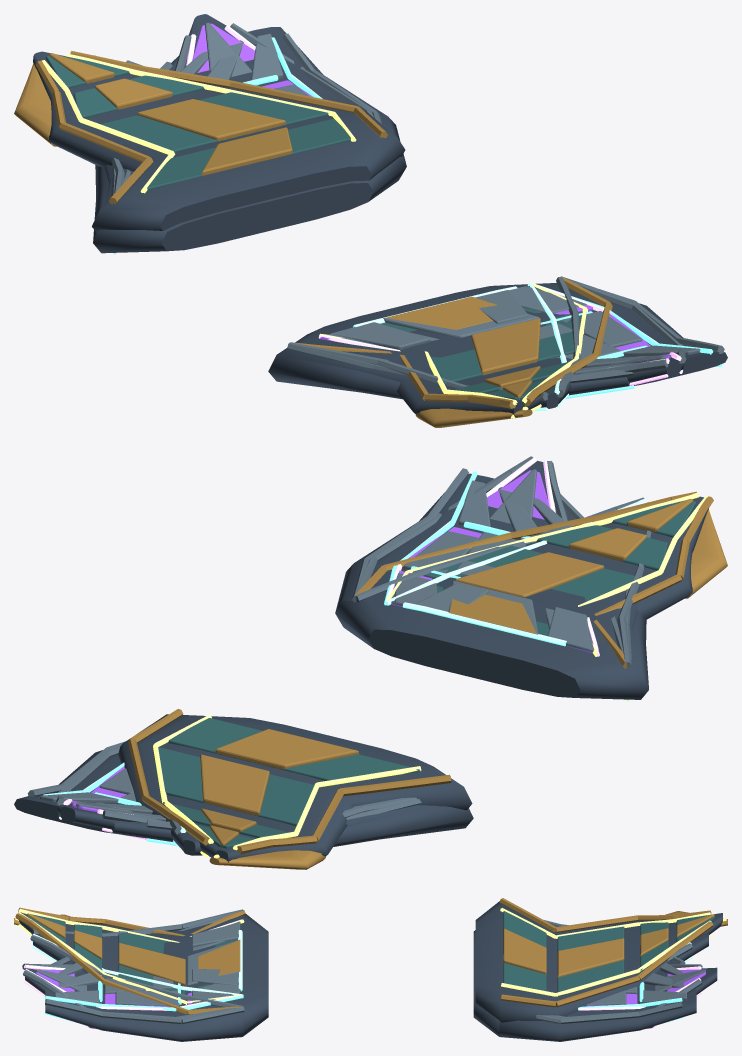
File: wings.glb
3 renders of one model, top to bottom at view 1: azimuth 30°, elevation 25°; view 2: azimuth 150°, elevation 25°; view 3: azimuth 270°, elevation 25°, orthographic. The views are drawn at different scales.
Parts seen in each view (by area): view 1: w_phantom Champagne gold edging, w_phantom Fitting gunmetal, w_razor Fitting gunmetal, w_phantom Phantom blue-black enamel, w_vane Brushed fitting edges, w_vane Fitting gunmetal, w_prism Brushed fitting edges, w_razor Brushed fitting edges, w_phantom w_phantom emitter, w_vane w_vane emitter, w_prism Violet prismatic glass, w_prism w_prism emitter (+2 smaller); view 2: w_phantom Champagne gold edging, w_razor Fitting gunmetal, w_phantom Fitting gunmetal, w_phantom Phantom blue-black enamel, w_vane Fitting gunmetal, w_vane Brushed fitting edges, w_prism Brushed fitting edges, w_razor Brushed fitting edges, w_phantom w_phantom emitter, w_vane w_vane emitter, w_razor w_razor emitter, w_prism Violet prismatic glass (+2 smaller); view 3: w_phantom Champagne gold edging, w_phantom Fitting gunmetal, w_vane Fitting gunmetal, w_phantom Phantom blue-black enamel, w_vane Brushed fitting edges, w_razor Fitting gunmetal, w_razor Brushed fitting edges, w_prism Brushed fitting edges, w_phantom w_phantom emitter, w_vane w_vane emitter, w_prism w_prism emitter, w_prism Violet prismatic glass (+2 smaller).
Boxes of the visible parts, x1,y1,x2,y2 form: w_phantom Champagne gold edging: (14,51,612,427); w_phantom Fitting gunmetal: (33,51,596,414); w_razor Fitting gunmetal: (93,55,570,408); w_phantom Phantom blue-black enamel: (46,55,582,400); w_vane Brushed fitting edges: (111,33,724,382); w_vane Fitting gunmetal: (93,27,727,399); w_prism Brushed fitting edges: (123,22,686,374); w_razor Brushed fitting edges: (111,60,581,400); w_phantom w_phantom emitter: (42,53,587,418); w_vane w_vane emitter: (113,37,722,398); w_prism Violet prismatic glass: (192,23,669,364); w_prism w_prism emitter: (114,25,682,399); w_phantom Champagne gold edging: (128,491,727,869); w_razor Fitting gunmetal: (171,576,648,855); w_phantom Fitting gunmetal: (118,496,708,862); w_phantom Phantom blue-black enamel: (158,500,695,848); w_vane Fitting gunmetal: (14,473,648,846); w_vane Brushed fitting edges: (27,468,631,829); w_prism Brushed fitting edges: (56,456,623,822); w_razor Brushed fitting edges: (168,497,651,834); w_phantom w_phantom emitter: (153,492,710,858); w_vane w_vane emitter: (43,471,628,845); w_razor w_razor emitter: (173,498,647,848); w_prism Violet prismatic glass: (72,470,599,811); w_phantom Champagne gold edging: (14,898,727,1014); w_phantom Fitting gunmetal: (19,901,722,1022); w_vane Fitting gunmetal: (45,961,696,1041); w_phantom Phantom blue-black enamel: (27,911,714,1004); w_vane Brushed fitting edges: (45,921,686,1023); w_razor Fitting gunmetal: (33,913,708,1036); w_razor Brushed fitting edges: (30,909,692,1007); w_prism Brushed fitting edges: (22,914,705,1018); w_phantom w_phantom emitter: (15,908,726,1004); w_vane w_vane emitter: (44,975,682,1021); w_prism w_prism emitter: (23,919,701,1029); w_prism Violet prismatic glass: (36,969,705,1007).
Bounding box in the file's own units: 23.72 × 5.13 × 58.09.
